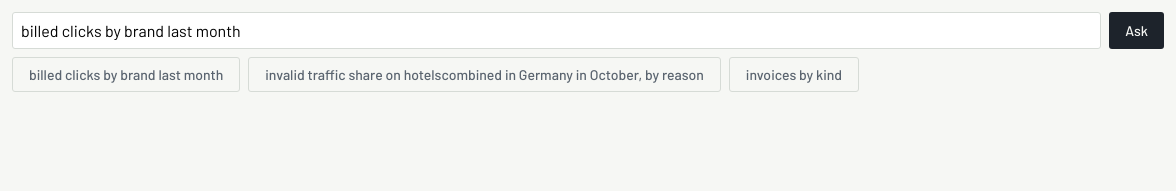
Test case: a refused question says why
Step 1. Click the button "Ask" → x=1137, y=30, box [1109,12,1164,49]
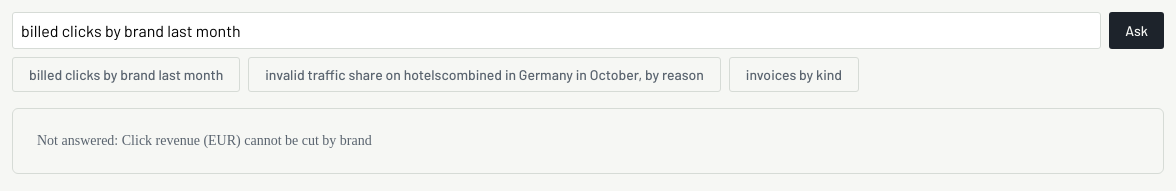
Now the text "Not answered: Click revenue (EUR) cannot be cut by brand" is shown, box [12,108,1164,174]
